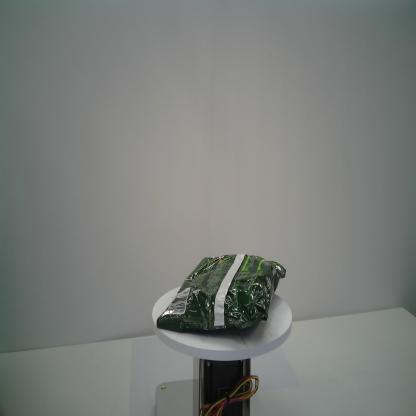Instant Noodles: (154, 252, 286, 337)
